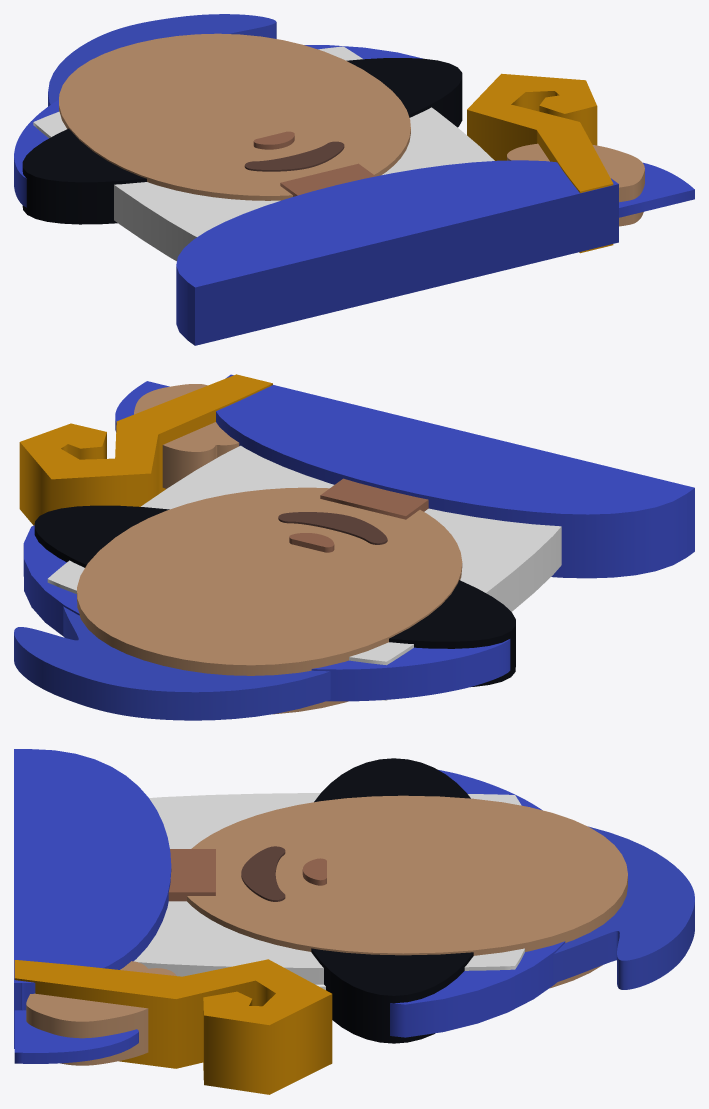
Rendered from emoji_u1f9d9_1f3fd_200d_2640.glb.
3 renders of one model, top to bottom at view 1: azimuth 30°, elevation 25°; view 2: azimuth 150°, elevation 25°; view 3: azimuth 270°, elevation 25°, orthographic. The views are drawn at different scales.
Parts seen in each view (by area): view 1: emoji_u1f9d9_1f3fd_200d_2640; view 2: emoji_u1f9d9_1f3fd_200d_2640; view 3: emoji_u1f9d9_1f3fd_200d_2640.
Boxes of the visible parts, x1,y1,x2,y2 form: emoji_u1f9d9_1f3fd_200d_2640: (14,14,694,345); emoji_u1f9d9_1f3fd_200d_2640: (14,374,694,720); emoji_u1f9d9_1f3fd_200d_2640: (14,749,694,1094).
Bounding box in the file's own units: 0.0325 × 0.0038 × 0.0337.
